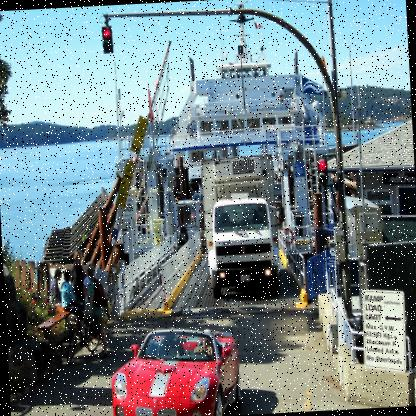Car: (108, 325, 242, 415)
